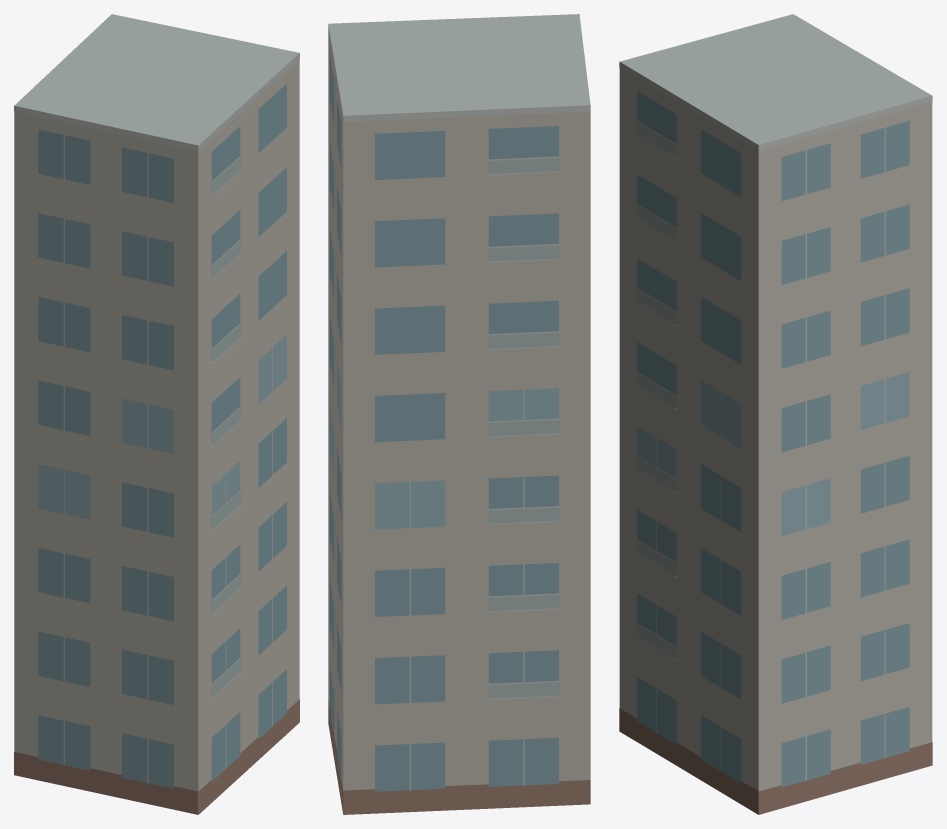
The model's file is survey-upis-32658059.glb.
3 renders of one model, left to right at view 1: azimuth 30°, elevation 25°; view 2: azimuth 150°, elevation 25°; view 3: azimuth 270°, elevation 25°, orthographic. The views are drawn at different scales.
Visible parts, largest first — view 1: survey-upis-32658059.tmp; view 2: survey-upis-32658059.tmp; view 3: survey-upis-32658059.tmp.
Boxes of the visible parts, x1,y1,x2,y2 form: survey-upis-32658059.tmp: [14, 14, 299, 814]; survey-upis-32658059.tmp: [328, 14, 590, 814]; survey-upis-32658059.tmp: [619, 14, 932, 814].
Bounding box in the file's own units: 11.34 × 27 × 11.44.
